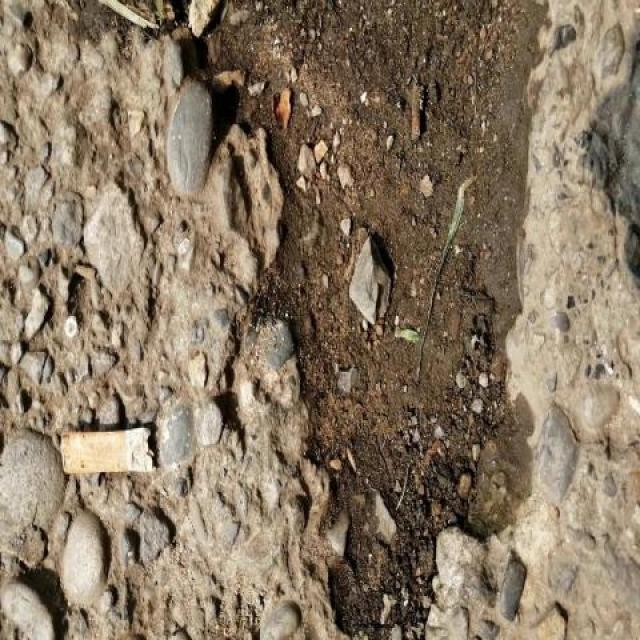non-organic waste: (55, 418, 161, 483)
